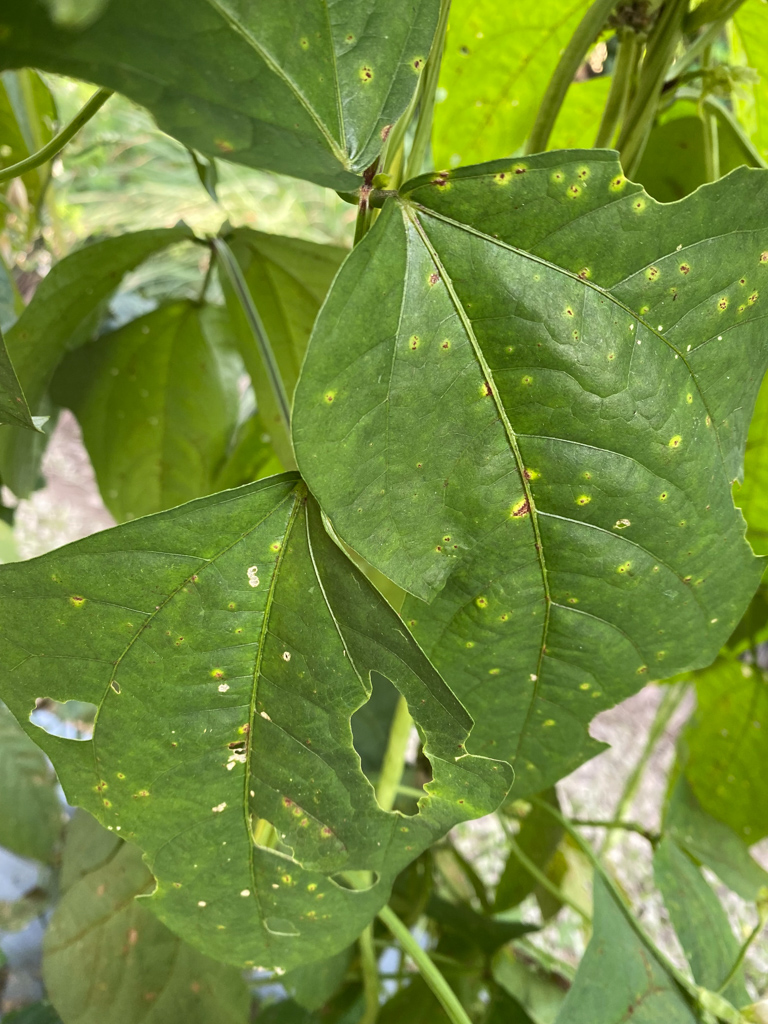Alternaria brassicicola: (375, 148, 764, 787), (34, 545, 478, 992)
